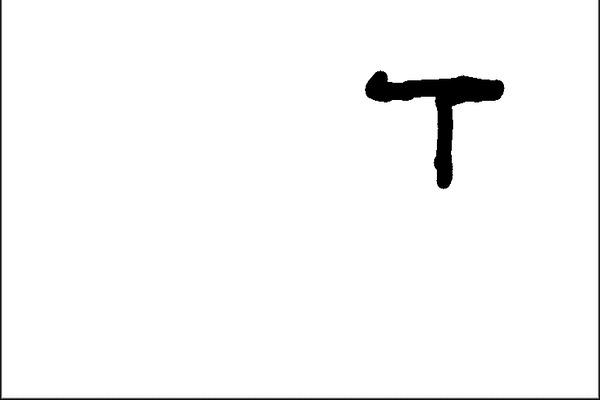T: (357, 67, 508, 195)
